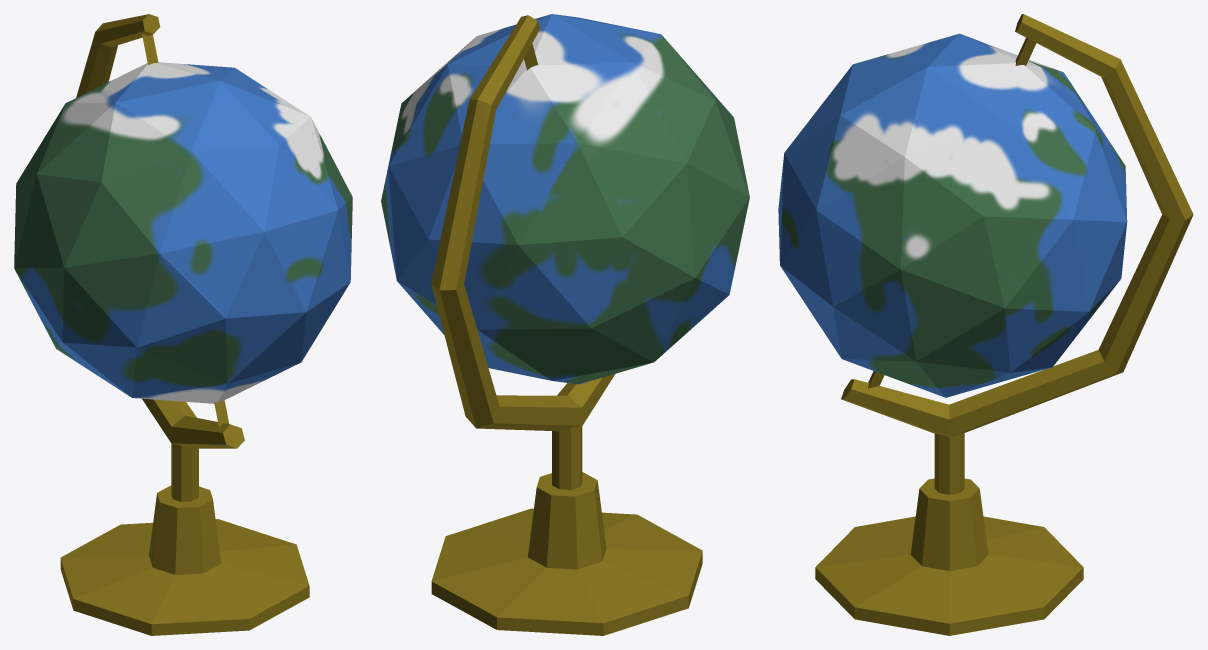
Rendered from Globe.fbx.
The picture shows the model from 3 angles, left to right: view 1: azimuth 30°, elevation 25°; view 2: azimuth 150°, elevation 25°; view 3: azimuth 270°, elevation 25°; orthographic projection. The views are drawn at different scales.
Visible parts, largest first — view 1: globe; view 2: globe; view 3: globe.
Boxes of the visible parts, bbox=[...] form: globe: bbox=[14, 14, 352, 635]; globe: bbox=[381, 14, 749, 635]; globe: bbox=[778, 14, 1193, 635].
Bounding box in the file's own units: 310 × 259 × 465.
Materials: 1 (1 with a texture image).
